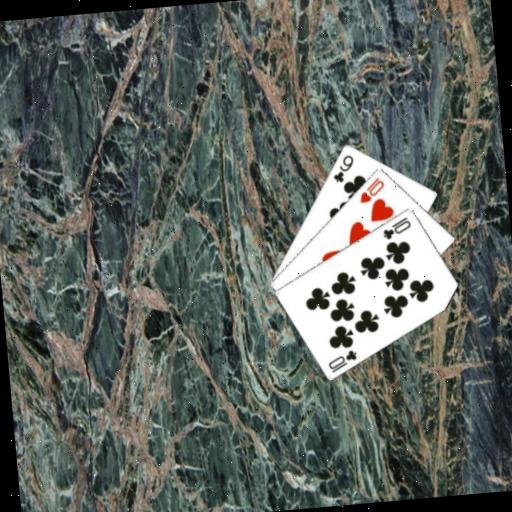10C: (378, 213, 414, 241), (324, 347, 360, 375)
10H: (355, 173, 388, 205)
9C: (329, 151, 357, 185)
